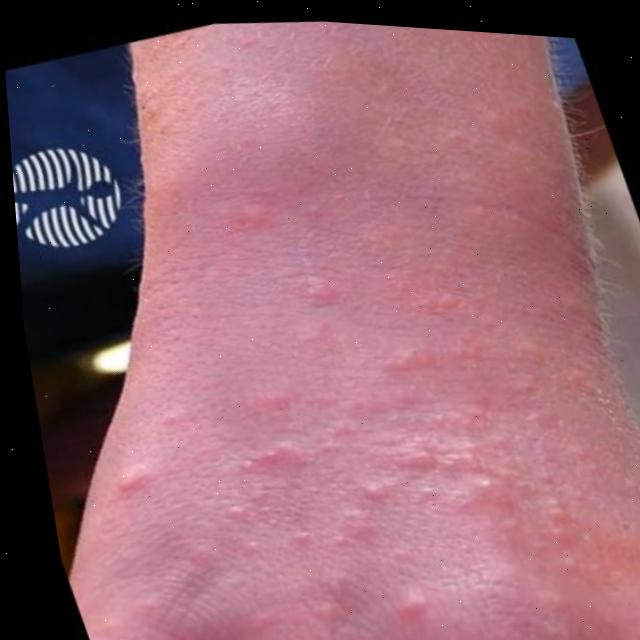Eczema: (181, 223, 598, 640)
